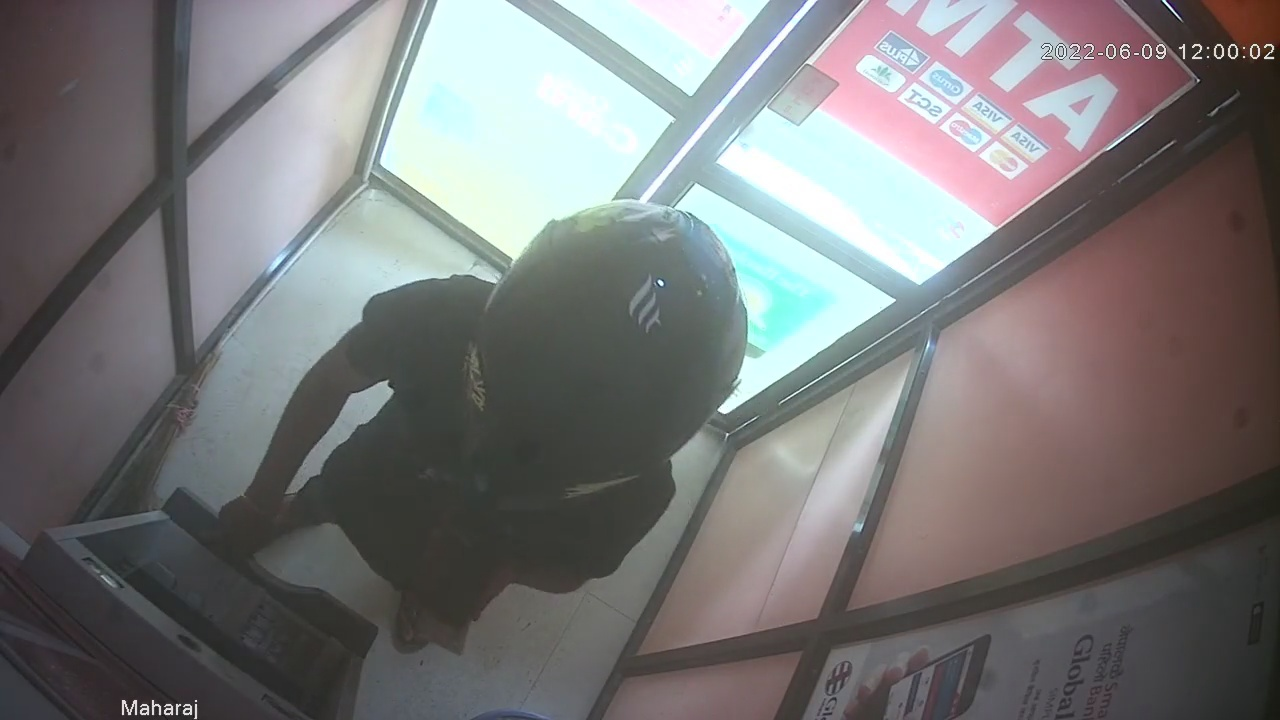helmet: (461, 200, 748, 511)
person: (217, 196, 749, 660)
